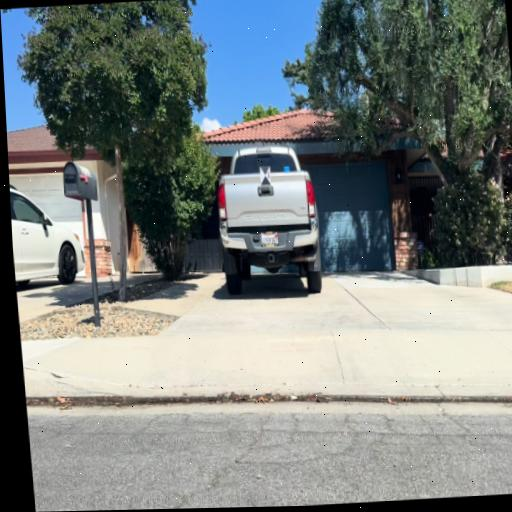target1: (259, 165, 271, 185)
